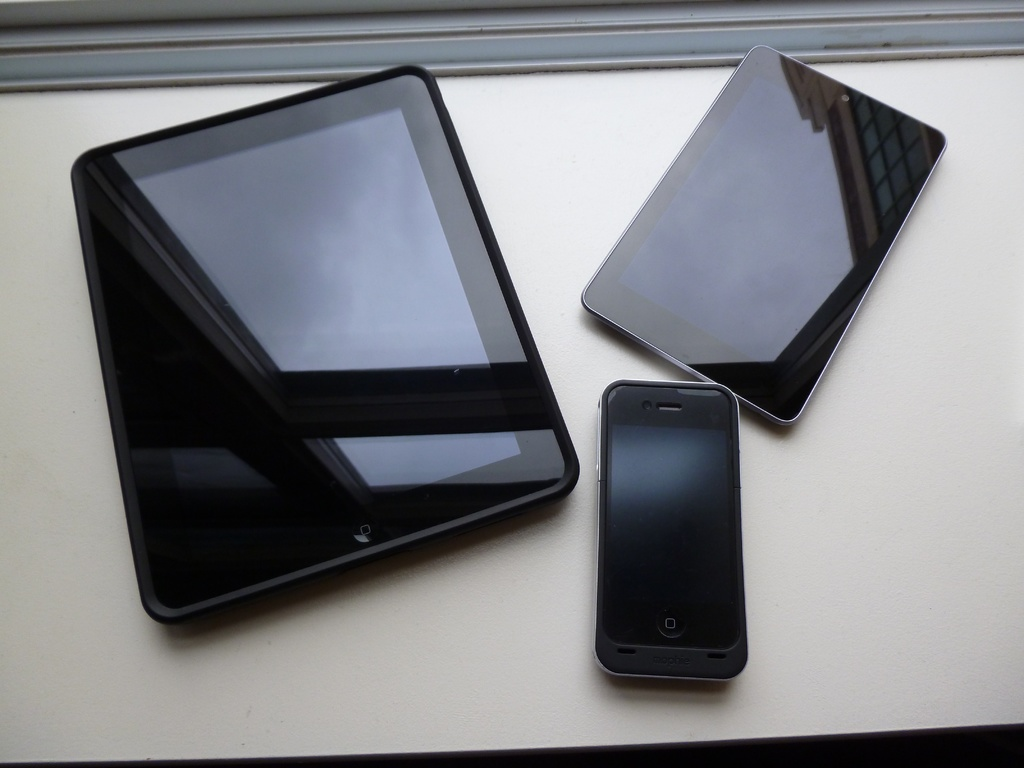mobile phone: (590, 378, 743, 684)
